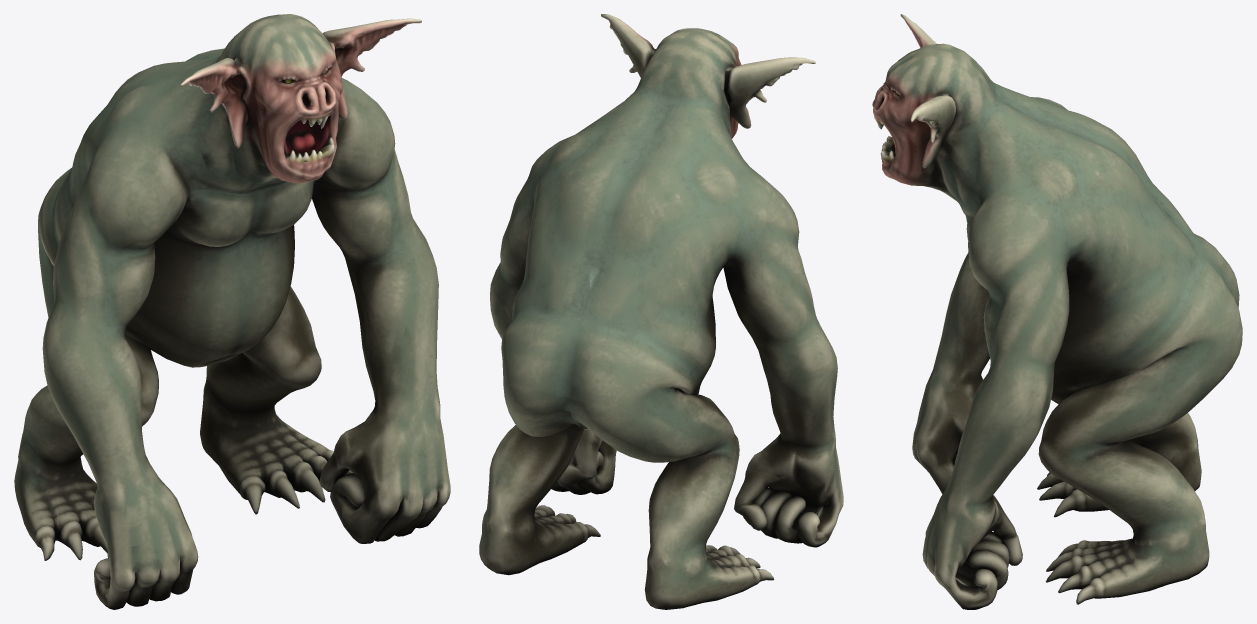
File: MZ4250 - Dretch.glb
The picture shows the model from 3 angles, left to right: view 1: azimuth 30°, elevation 25°; view 2: azimuth 150°, elevation 25°; view 3: azimuth 270°, elevation 25°; orthographic projection. The views are drawn at different scales.
Parts seen in each view (by area): view 1: body_low.001; view 2: body_low.001; view 3: body_low.001.
Part boxes in pixels (bbox=[...]): body_low.001: bbox=[14, 14, 450, 609]; body_low.001: bbox=[479, 14, 843, 609]; body_low.001: bbox=[872, 14, 1242, 609].
Size of the model in its own units: 4.31 by 5.89 by 4.
1 material, 1 textured.
